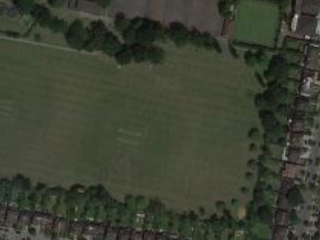Tree: (143, 44, 165, 64), (115, 42, 137, 62), (101, 33, 123, 53), (86, 27, 108, 47), (66, 23, 88, 43), (263, 58, 285, 78), (259, 94, 284, 110), (263, 133, 282, 147), (255, 174, 274, 188)
